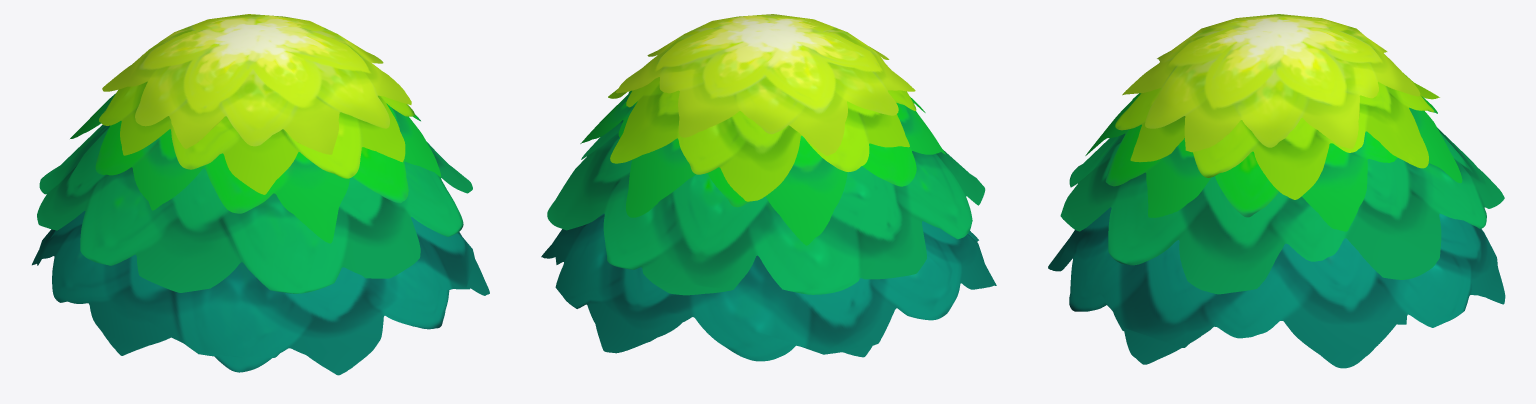
The model's file is bush.fbx.
The picture shows the model from 3 angles, left to right: view 1: azimuth 30°, elevation 25°; view 2: azimuth 150°, elevation 25°; view 3: azimuth 270°, elevation 25°; orthographic projection.
Visible parts, largest first — view 1: Circle; view 2: Circle; view 3: Circle.
Boxes of the visible parts, bbox=[...] form: Circle: bbox=[32, 14, 489, 375]; Circle: bbox=[541, 14, 996, 361]; Circle: bbox=[1048, 14, 1505, 368].
Size of the model in its own units: 416 by 242 by 416.
